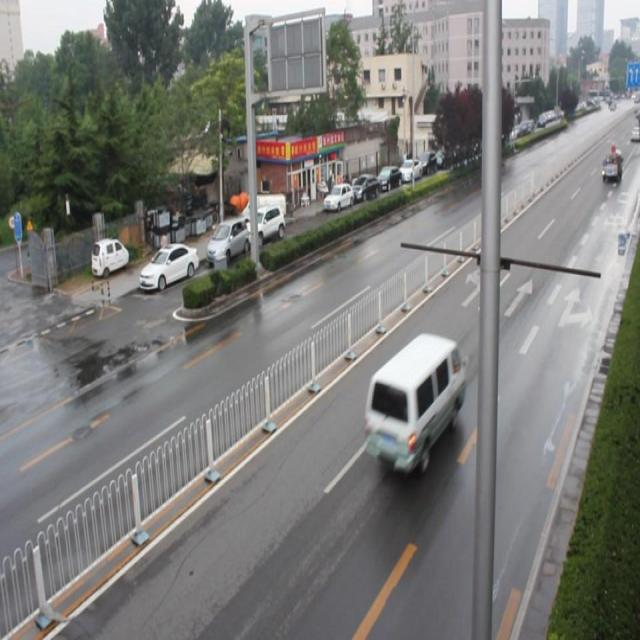truck: (364, 336, 461, 476)
